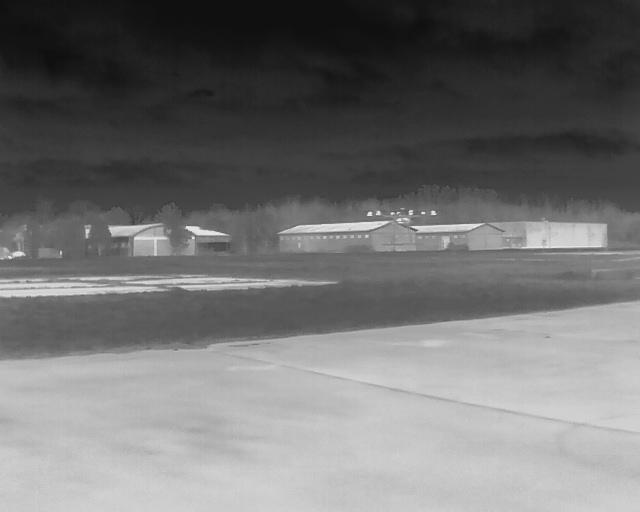drone: (356, 193, 439, 254)
